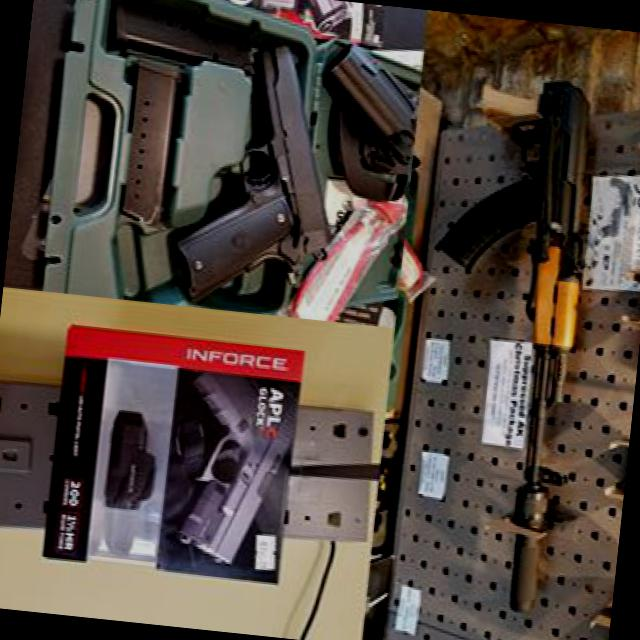handgun: (173, 34, 342, 317), (158, 370, 302, 574)
long weapon: (400, 57, 616, 619)
